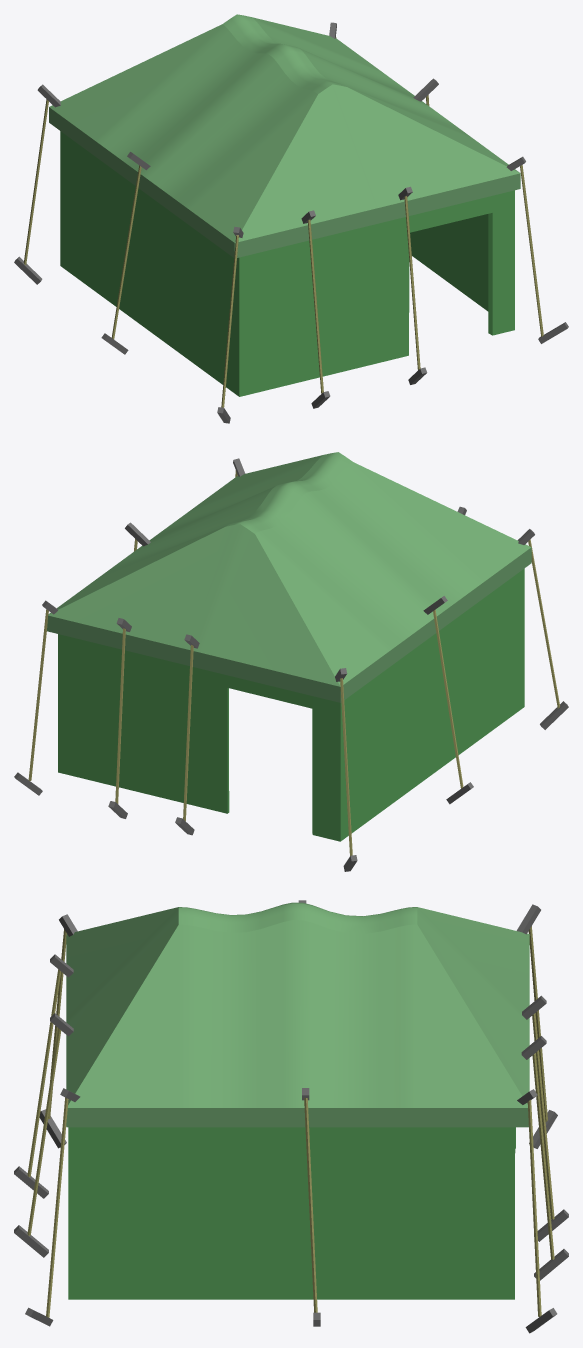
Rendered from Tent_big_middle.fbx.
3 renders of one model, top to bottom at view 1: azimuth 30°, elevation 25°; view 2: azimuth 150°, elevation 25°; view 3: azimuth 270°, elevation 25°, orthographic. The views are drawn at different scales.
Parts seen in each view (by area): view 1: Tent_big_middle; view 2: Tent_big_middle; view 3: Tent_big_middle.
Boxes of the visible parts, x1,y1,x2,y2 form: Tent_big_middle: (14, 14, 568, 423); Tent_big_middle: (14, 452, 568, 871); Tent_big_middle: (14, 900, 568, 1333).
Size of the model in its own units: 459 by 330 by 493.
